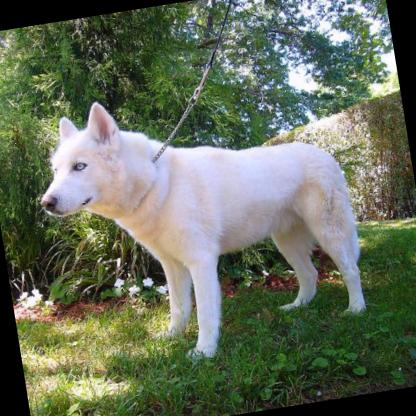Siberian_husky: (23, 62, 372, 380)
